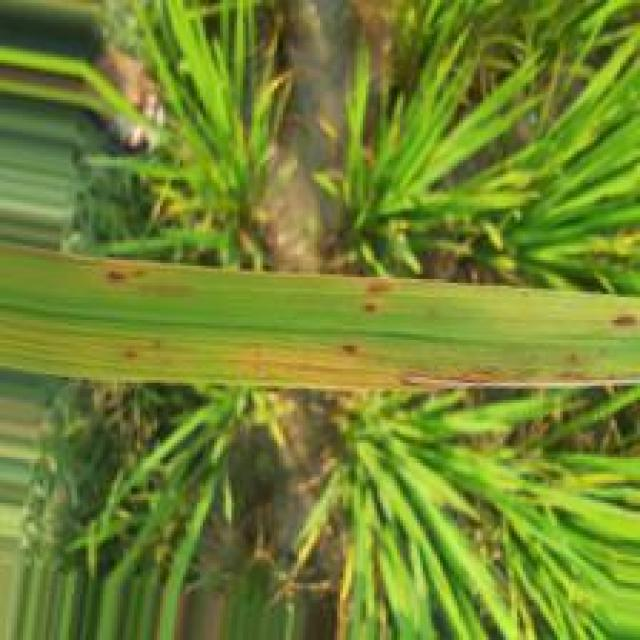Brown_Spot: (388, 368, 511, 389), (101, 262, 128, 292), (547, 371, 601, 385), (610, 312, 639, 333), (357, 282, 394, 298), (339, 339, 359, 359), (358, 302, 385, 316), (562, 352, 584, 366), (122, 350, 140, 364)
